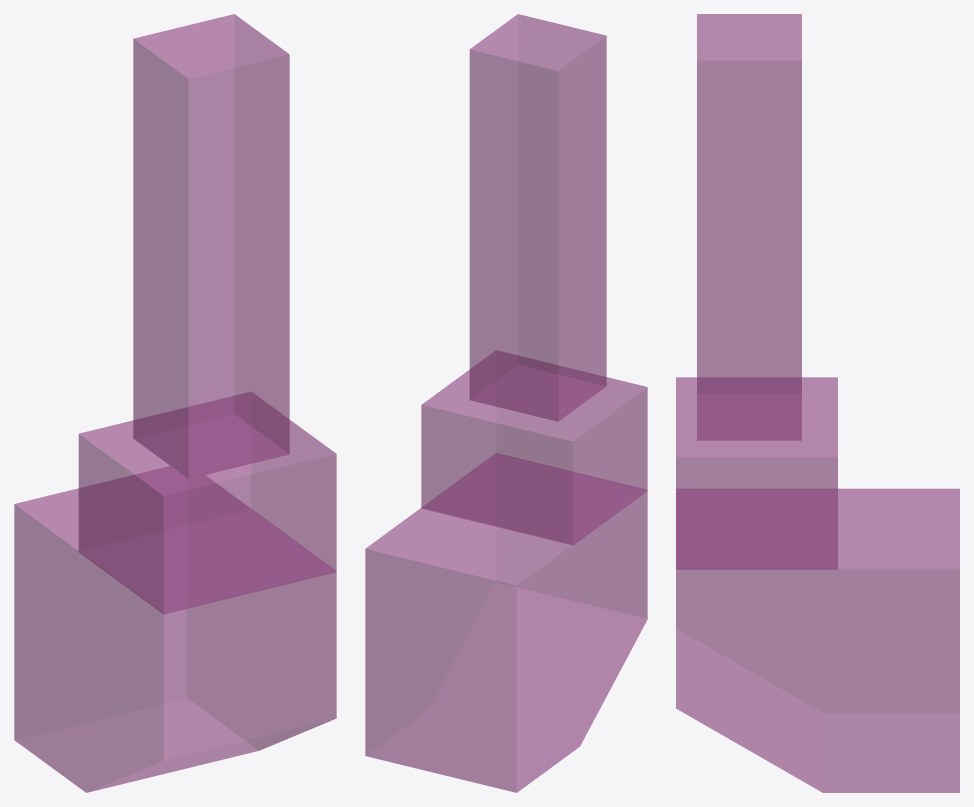
File: SM_Bld_Railing_Pillar_Straight_01_Collision.fbx
3 views of the same model, side by side, from view 1: azimuth 30°, elevation 25°; view 2: azimuth 150°, elevation 25°; view 3: azimuth 270°, elevation 25° (orthographic). The views are drawn at different scales.
Parts seen in each view (by area): view 1: SM_Bld_Railing_Pillar_Straight_01_Collision; view 2: SM_Bld_Railing_Pillar_Straight_01_Collision; view 3: SM_Bld_Railing_Pillar_Straight_01_Collision.
Part boxes in pixels (x1,y1,x2,y2): SM_Bld_Railing_Pillar_Straight_01_Collision: (14,14,336,792); SM_Bld_Railing_Pillar_Straight_01_Collision: (365,14,647,792); SM_Bld_Railing_Pillar_Straight_01_Collision: (676,14,959,792).
Bounding box in the file's own units: 38.29 × 159 × 57.31.
